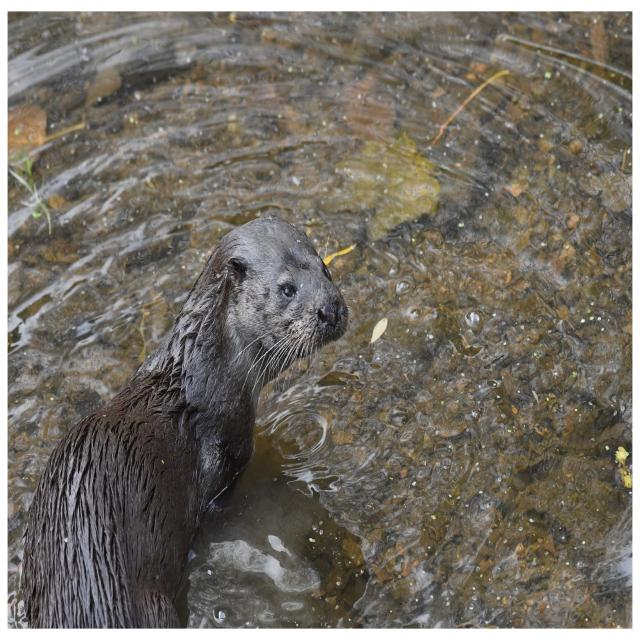otter: (24, 217, 347, 626)
